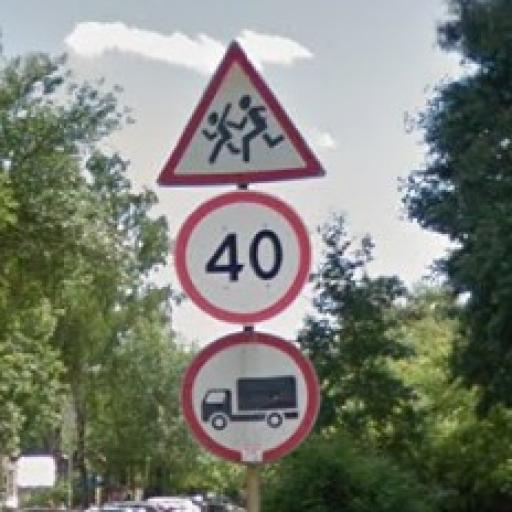traffic_sign: (158, 39, 328, 189), (180, 330, 321, 467), (176, 191, 313, 325)
